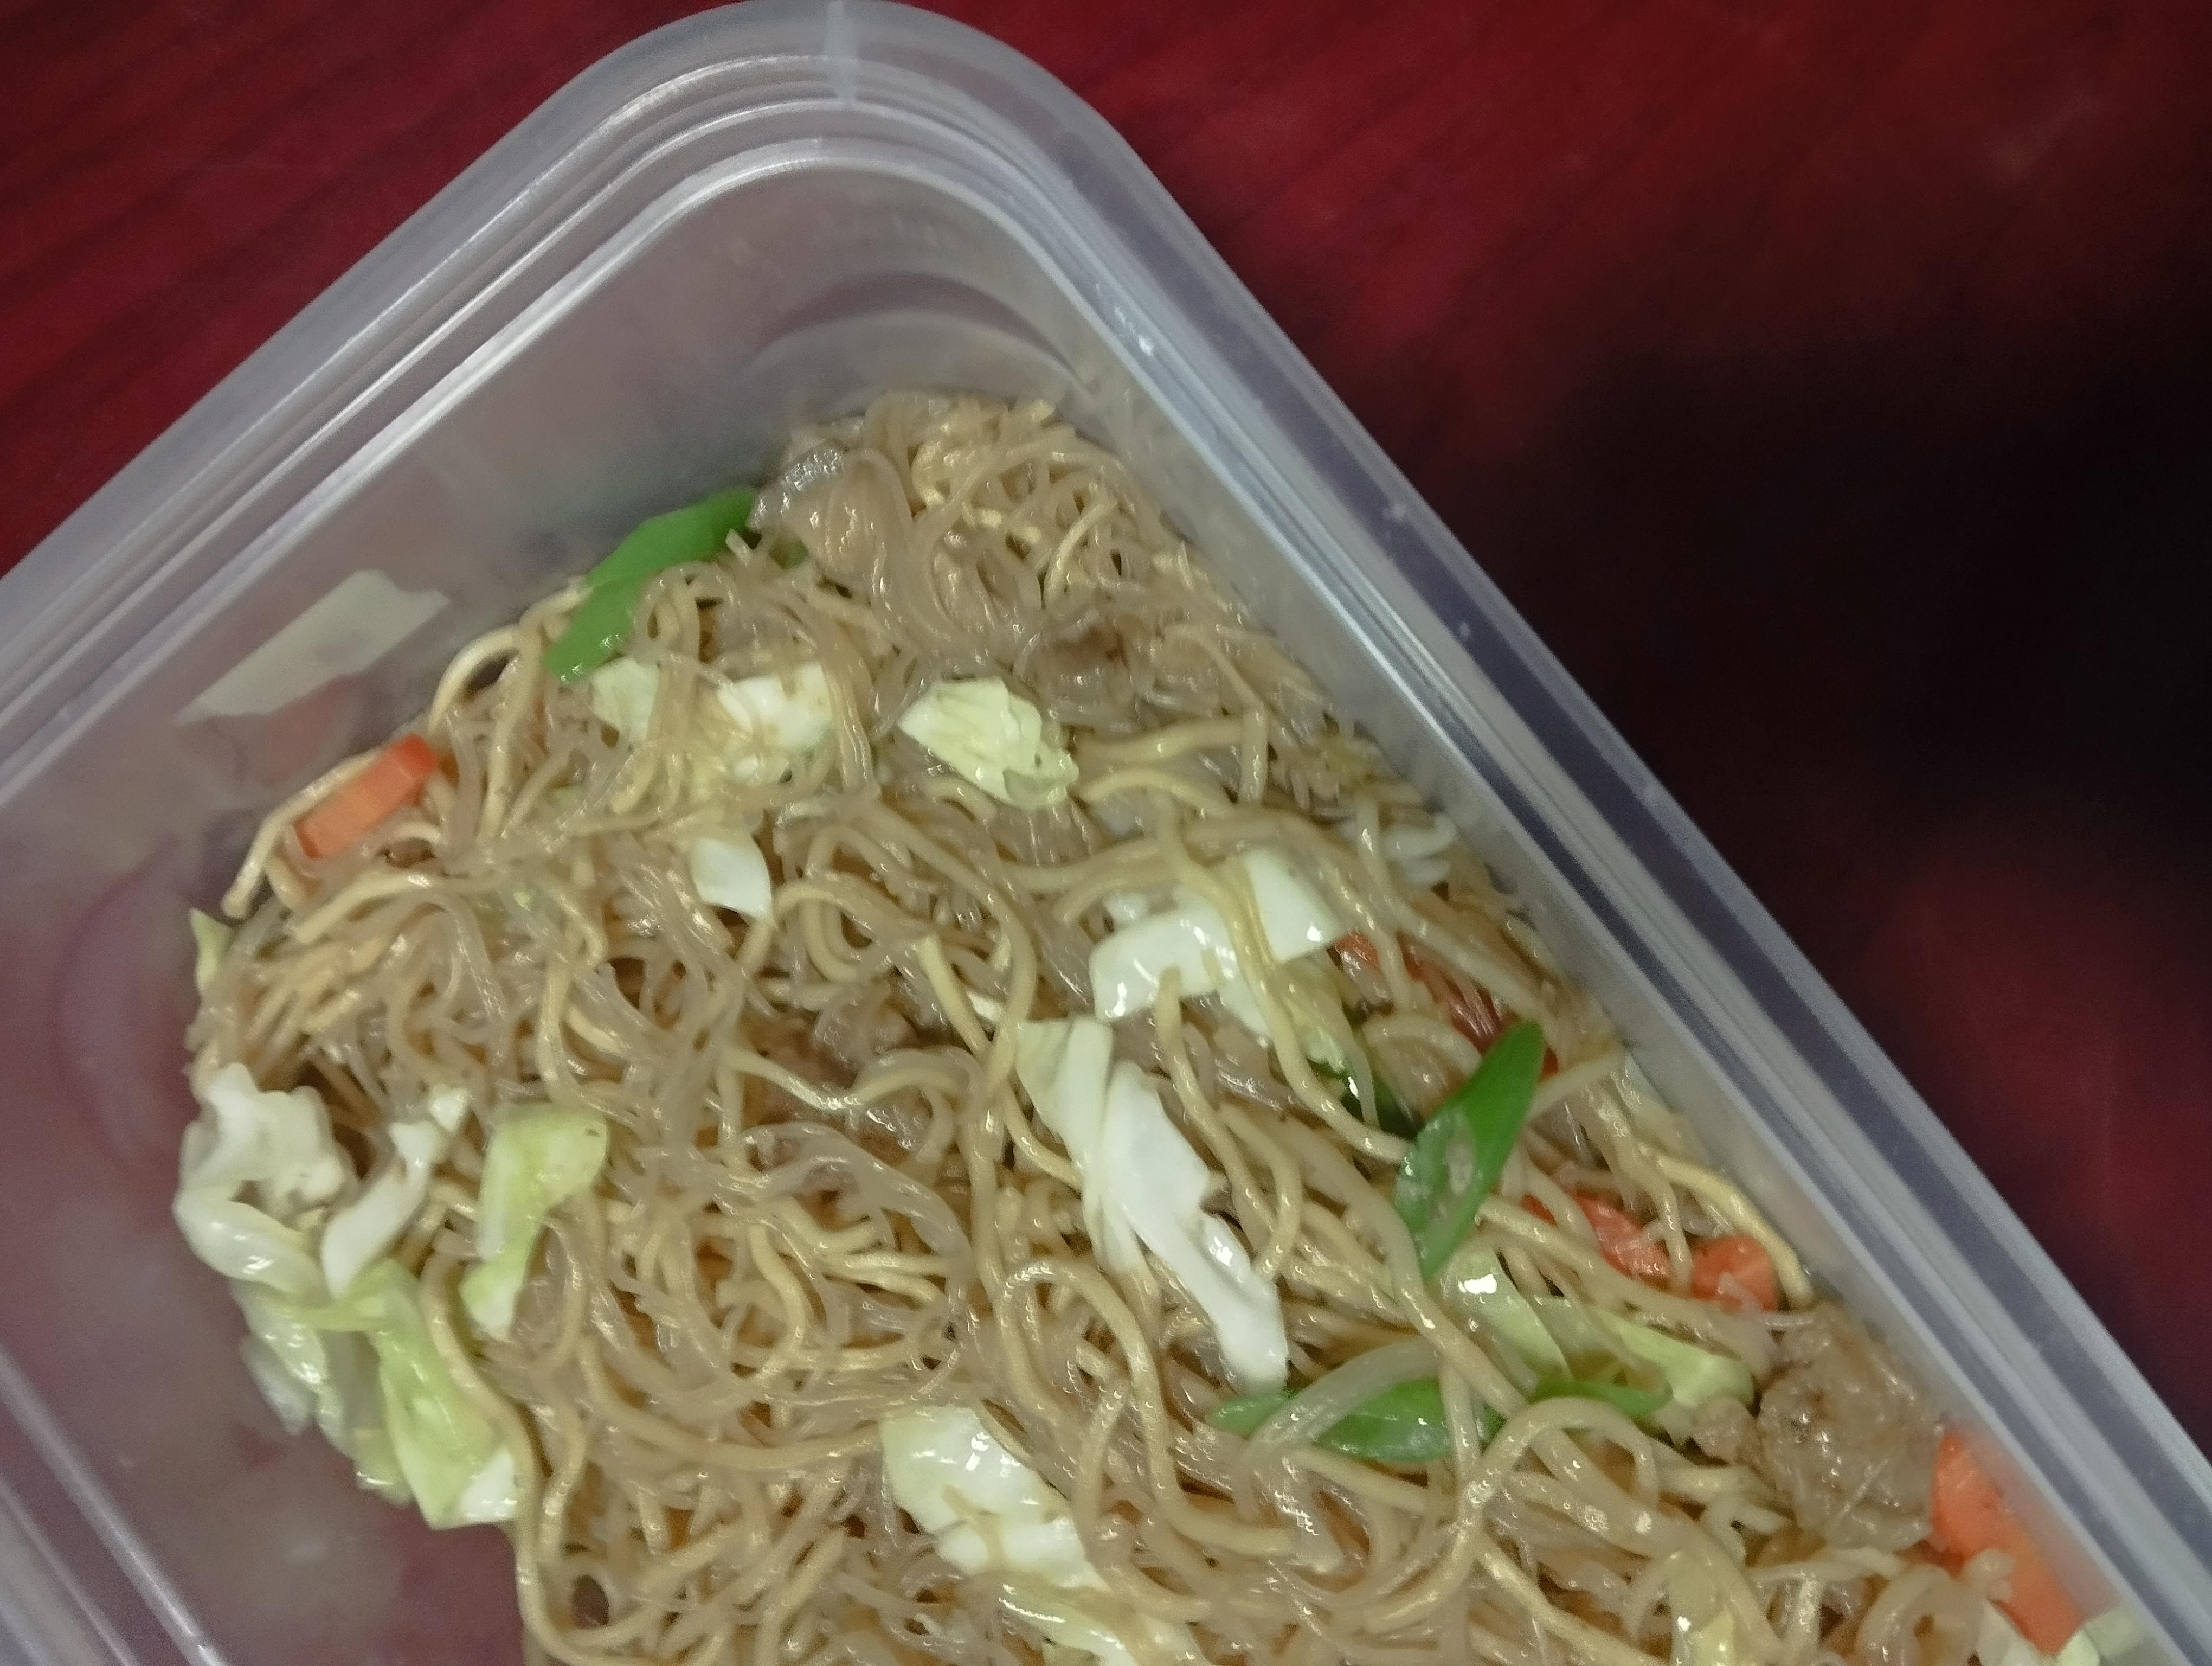pancit bihon: (166, 394, 2135, 1666)
